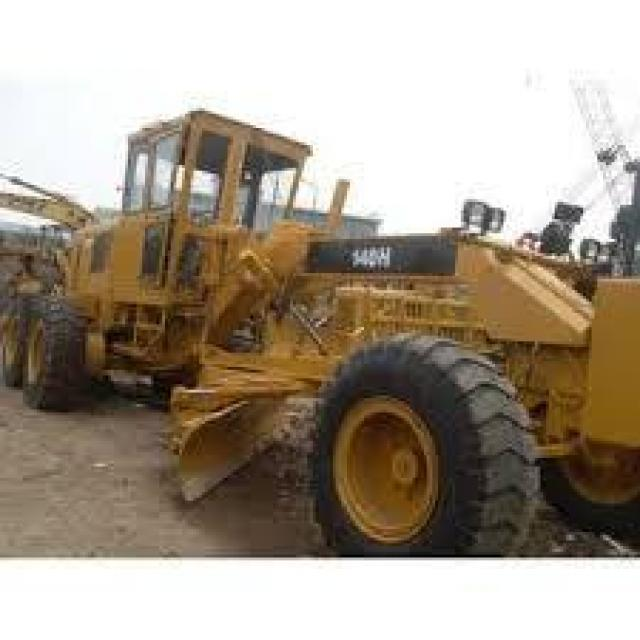Grader: (17, 102, 637, 552)
